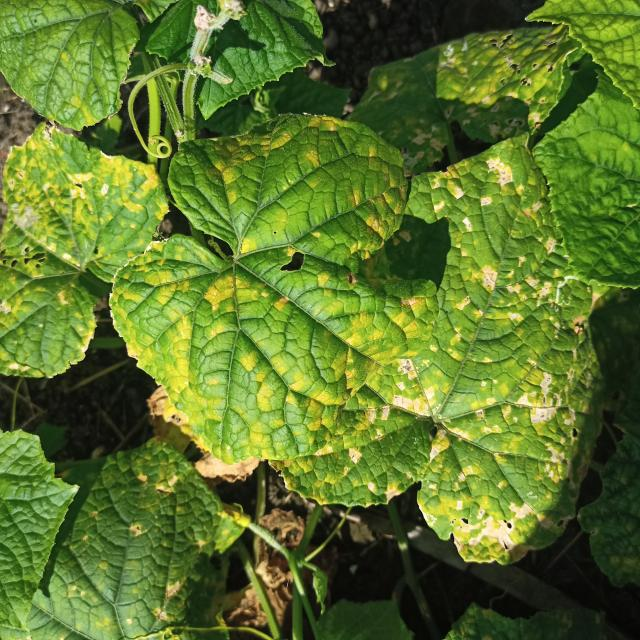disease_cucumber: (127, 114, 436, 467), (385, 159, 610, 569), (366, 30, 569, 182), (0, 124, 160, 310)
